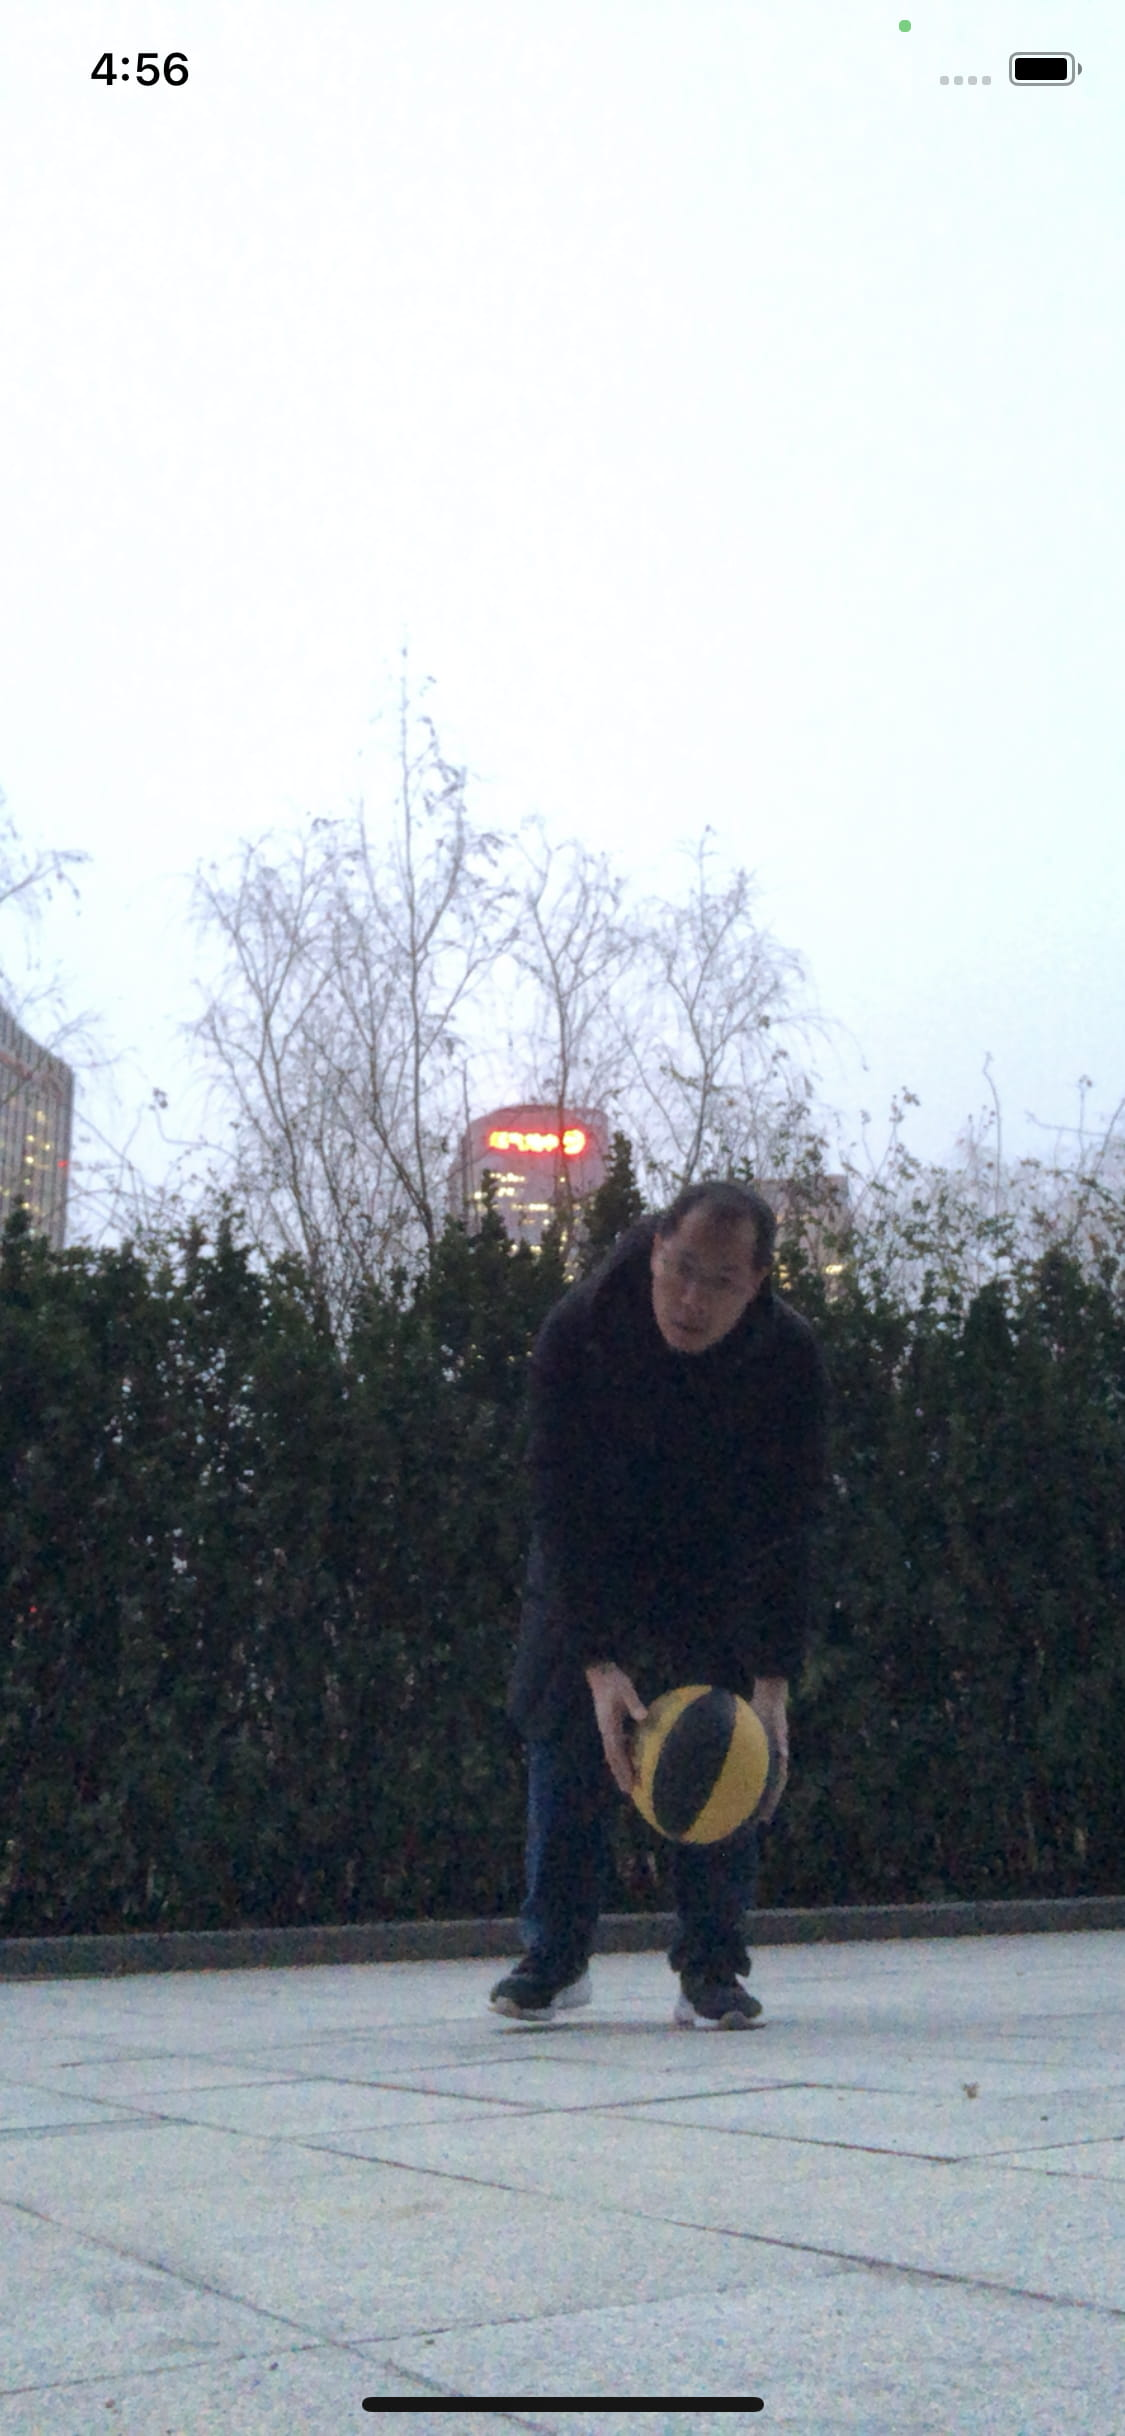ball: (617, 1673, 785, 1844)
